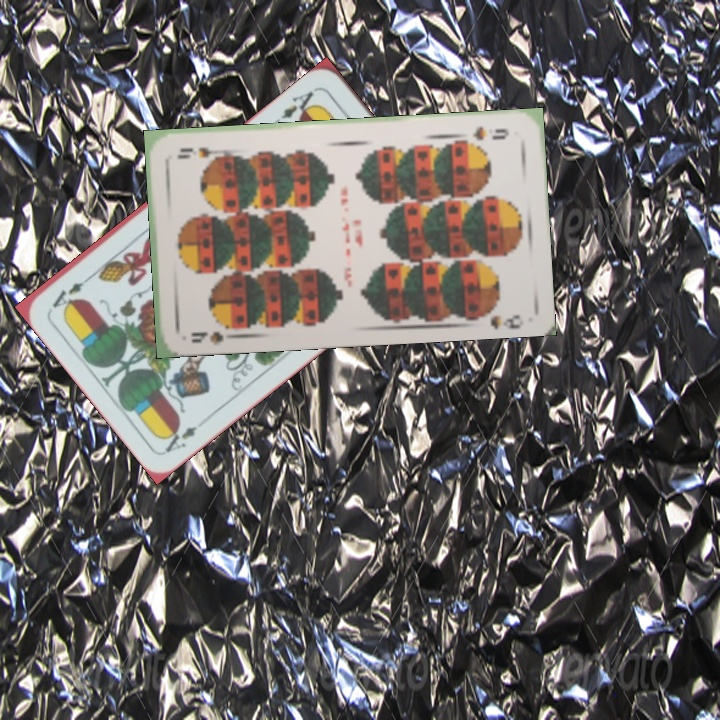EA: (270, 84, 320, 127), (160, 420, 202, 455)
S9: (187, 318, 239, 347), (469, 123, 511, 143)
